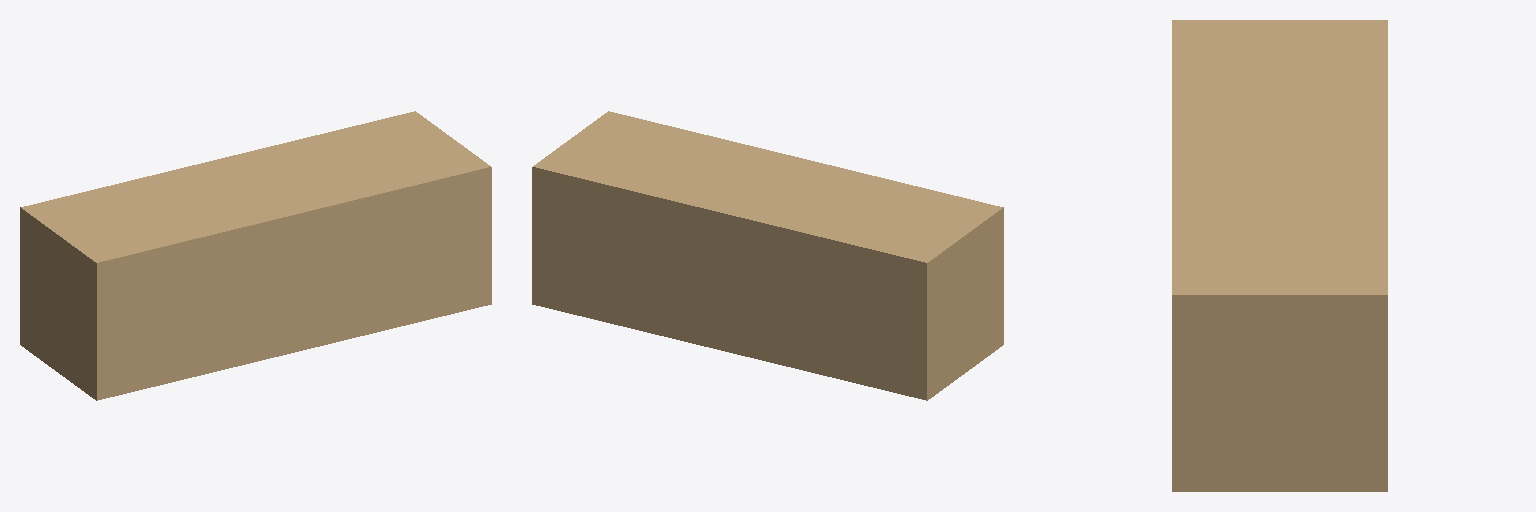
URDF robot description (block):
<?xml version="1.0" ?>
<robot name="block">
  <link name="base_link">
    <visual>
      <geometry>
        <box size="1.5 0.5 0.5"/> <!-- Dimensions: 0.5x0.5x0.2 -->
      </geometry>
      <material name="brown">
        <color rgba="0.82 0.71 0.55 1.0"/> <!-- Brown color -->
      </material>
    </visual>
    <collision>
      <geometry>
        <box size="0.5 0.5 0.2"/>
      </geometry>
    </collision>
    <inertial>
      <mass value="0.0"/>
      <inertia ixx="0.0" ixy="0.0" ixz="0.0" iyy="0.0" iyz="0.0" izz="0.0"/>
    </inertial>
  </link>
</robot>

--- Facts derived from the render (not from the file) ---
The picture shows the robot from 3 angles, left to right: view 1: azimuth 30°, elevation 25°; view 2: azimuth 150°, elevation 25°; view 3: azimuth 270°, elevation 25°; orthographic projection.
Model block with 1 links and 0 joints (none), rooted at base_link, posed all joints at 0.
Visible links, largest first — view 1: base_link; view 2: base_link; view 3: base_link.
Link boxes in pixels (box(x1,y1,x2,y2)): base_link: box(20, 111, 491, 400); base_link: box(532, 111, 1003, 400); base_link: box(1172, 20, 1387, 491).
Bounding box of the posed robot: 1.5 × 0.5 × 0.5 m (x, y, z).
Geometry: primitives only (box / cylinder / sphere), no mesh files.